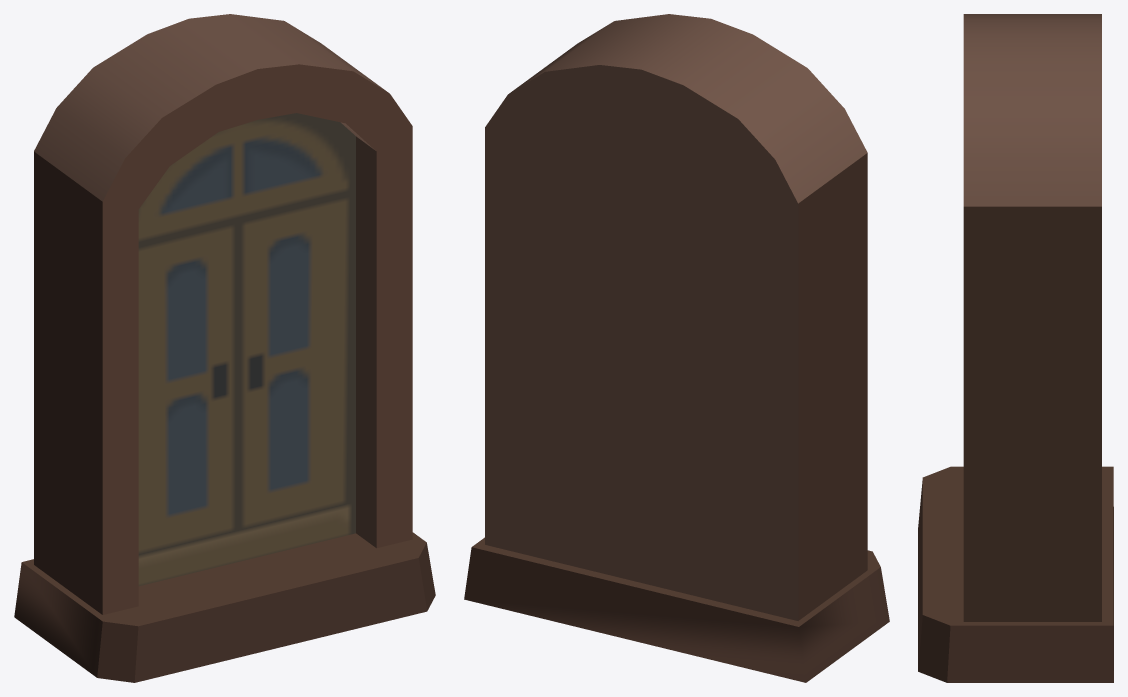
Rendered from Door_E03.fbx.
3 views of the same model, side by side, from view 1: azimuth 30°, elevation 25°; view 2: azimuth 150°, elevation 25°; view 3: azimuth 270°, elevation 25° (orthographic).
Parts seen in each view (by area): view 1: Door_E03; view 2: Door_E03; view 3: Door_E03.
Part boxes in pixels (x1=…): Door_E03: x1=14, y1=14, x2=435, y2=682; Door_E03: x1=464, y1=14, x2=889, y2=682; Door_E03: x1=918, y1=14, x2=1113, y2=682.
Size of the model in its own units: 227 by 359 by 113.
